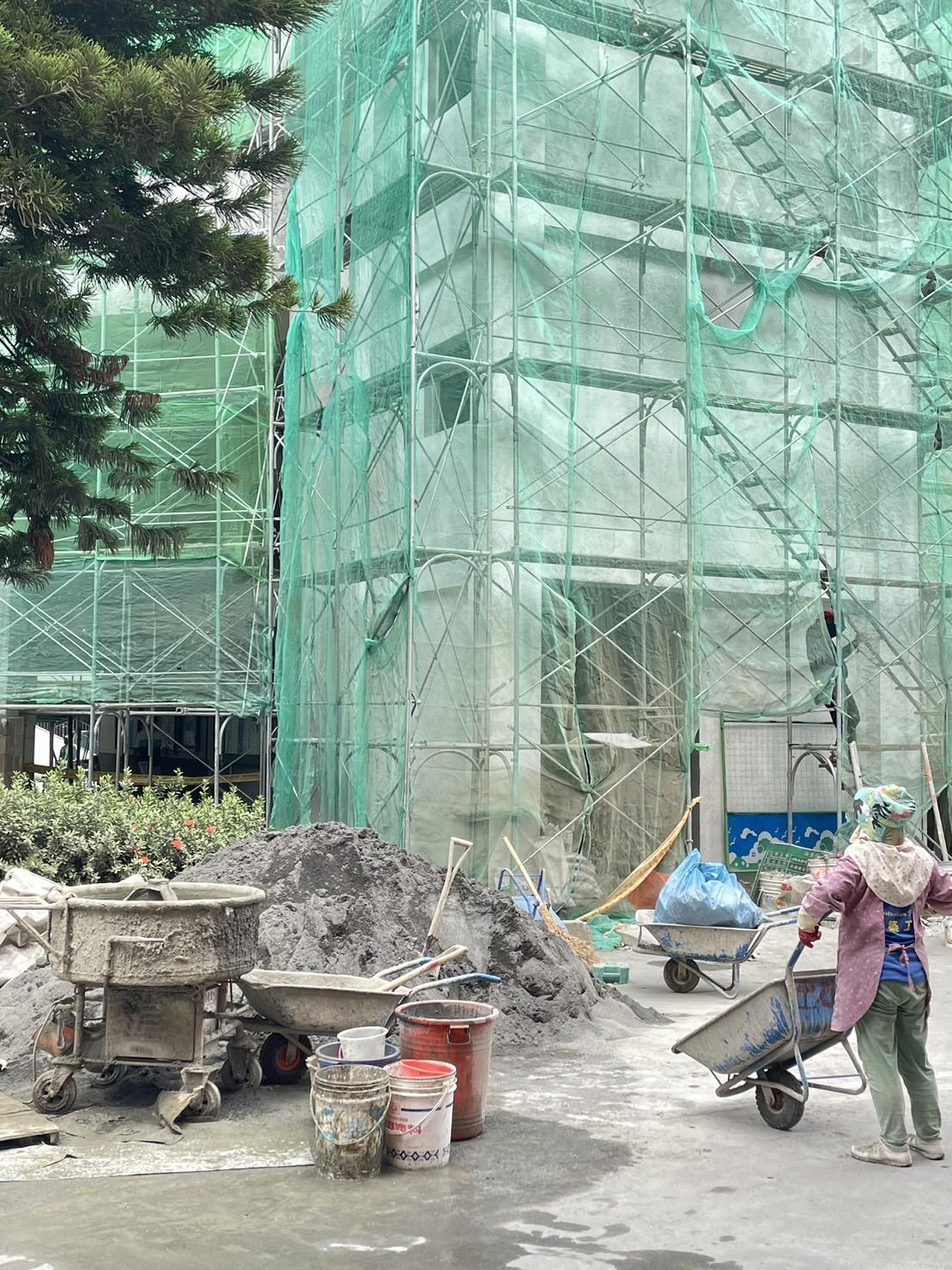NoHelmet: (853, 785, 917, 839)
NoVest: (847, 841, 934, 981)
